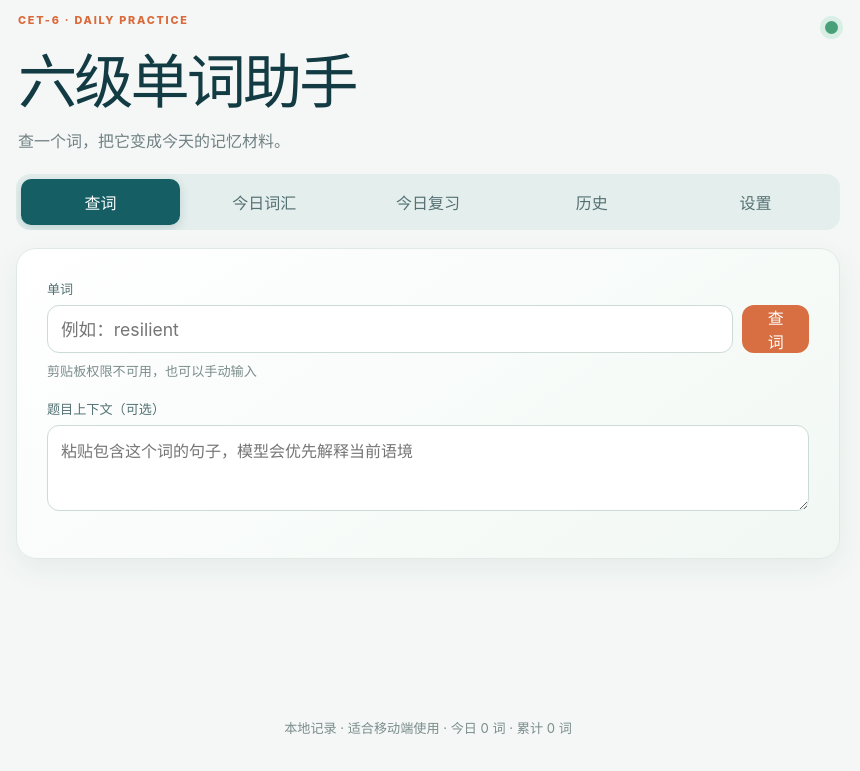
app flow › allows manual lookup and shows the saved word
This screenshot has width=860, height=771.
Type "adapt" into the field labelled "单词" at {"x": 390, "y": 329}, box [47,305,733,353]
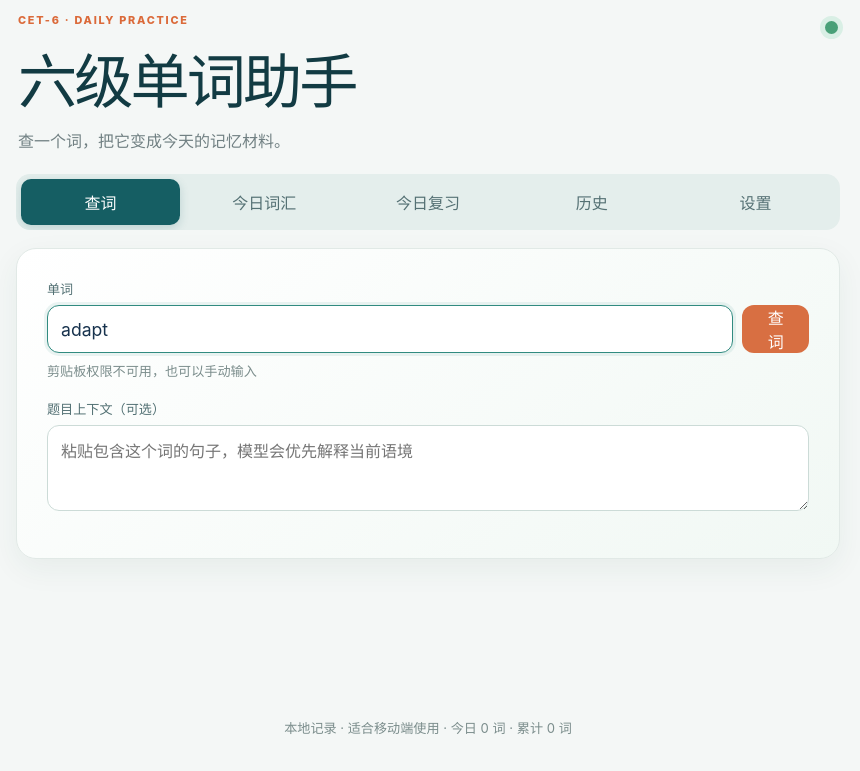
Click the 2nd button "查词" at {"x": 776, "y": 329}, box [742,305,809,353]
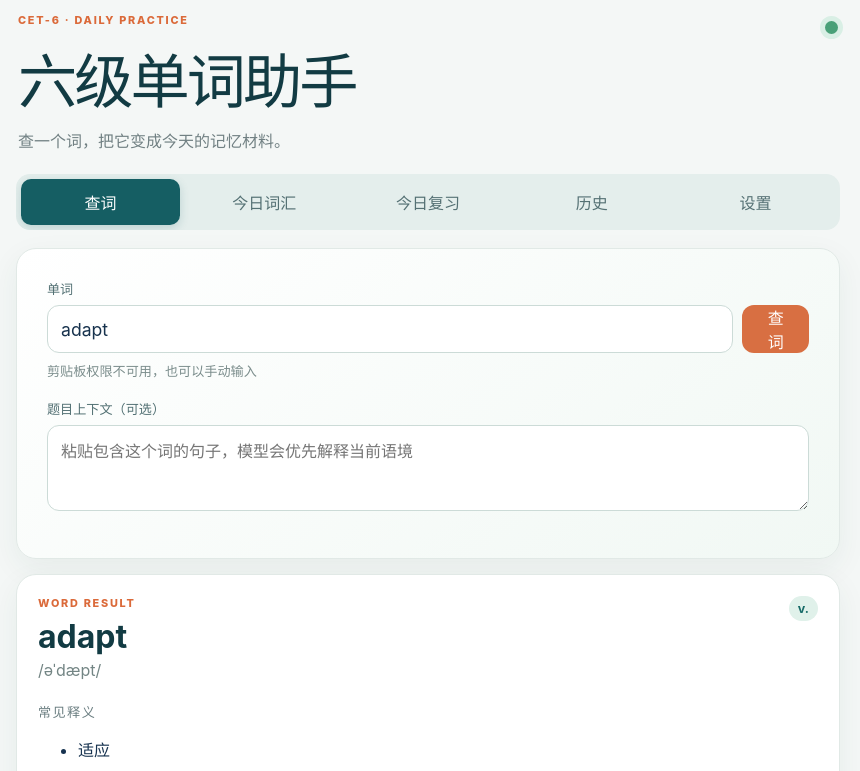
Expected: the list item "适应" is shown, [78,740,110,760]
